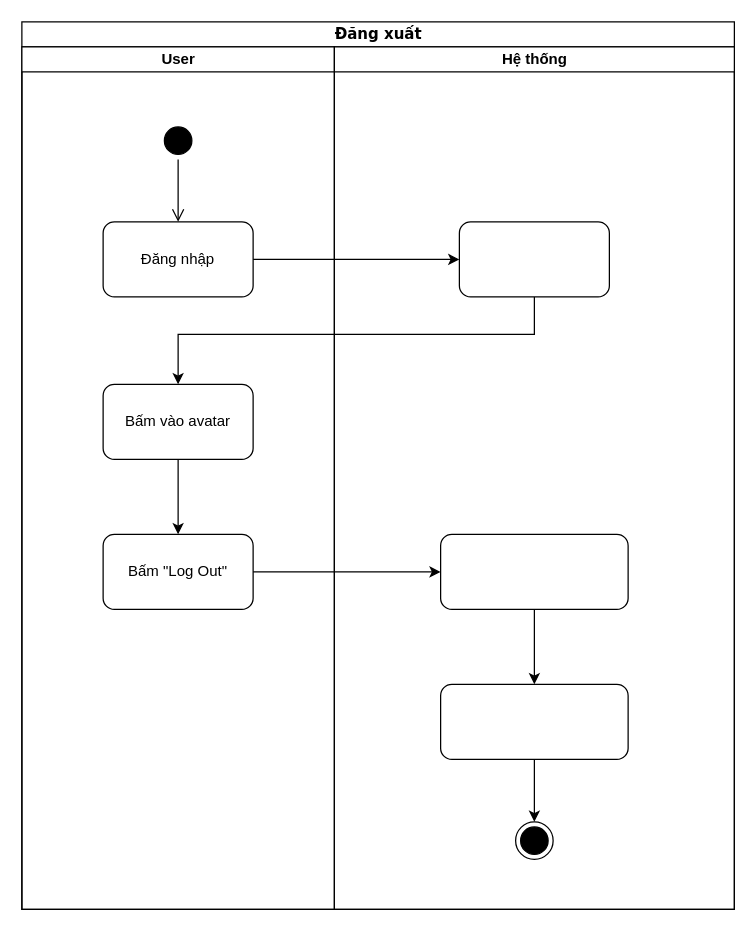
The diagram is 756 pixels wide and 931 high, and some of its shapes have lost their labels. Here are the shapes that lost their labels. From the top down, the centre of each, then its label:
pixel 533 259: Hiển thị trang chủ
pixel 533 571: Xóa thông tin người dùng trên trang web
pixel 533 721: Hiển thị trang đăng nhập
